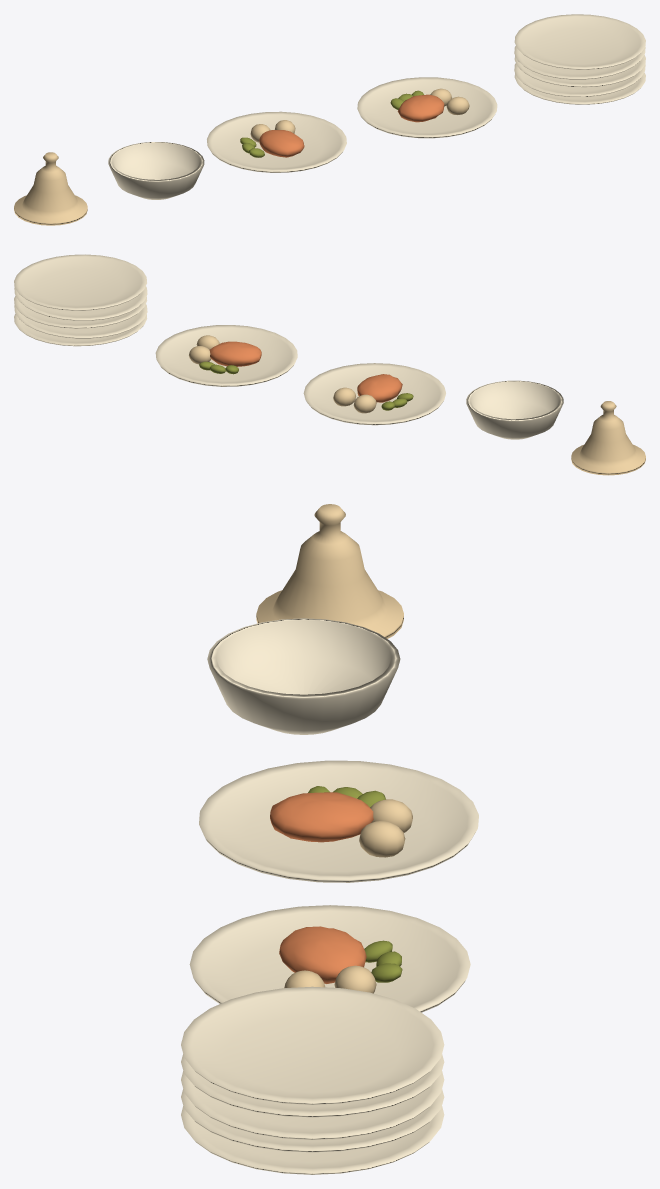
File: PROP_COUNTER_DRESSING.glb
3 renders of one model, top to bottom at view 1: azimuth 30°, elevation 25°; view 2: azimuth 150°, elevation 25°; view 3: azimuth 270°, elevation 25°, orthographic. The views are drawn at different scales.
Visible parts, largest first — view 1: plate_stack, b_plate, a_plate, bowl, bell, a_meat, b_meat, a_side1; view 2: plate_stack, b_plate, a_plate, bowl, bell, a_meat, b_meat, b_side0, b_side1; view 3: plate_stack, b_plate, bowl, a_plate, bell, b_meat, a_meat, b_side1, b_side0.
Part boxes in pixels (bbox=[...]): plate_stack: bbox=[514, 14, 645, 104]; b_plate: bbox=[207, 111, 346, 172]; a_plate: bbox=[357, 77, 497, 138]; bowl: bbox=[108, 142, 204, 199]; bell: bbox=[14, 152, 87, 225]; a_meat: bbox=[397, 94, 444, 122]; b_meat: bbox=[259, 130, 304, 157]; a_side1: bbox=[446, 96, 469, 114]; plate_stack: bbox=[14, 254, 147, 346]; b_plate: bbox=[303, 363, 445, 425]; a_plate: bbox=[155, 325, 297, 386]; bowl: bbox=[466, 380, 563, 439]; bell: bbox=[571, 401, 645, 475]; a_meat: bbox=[209, 341, 261, 366]; b_meat: bbox=[357, 374, 402, 402]; b_side0: bbox=[353, 394, 376, 413]; b_side1: bbox=[333, 387, 355, 406]; plate_stack: bbox=[181, 986, 444, 1174]; b_plate: bbox=[199, 760, 478, 882]; bowl: bbox=[207, 618, 400, 734]; a_plate: bbox=[189, 905, 470, 1012]; bell: bbox=[256, 504, 403, 638]; b_meat: bbox=[270, 792, 373, 842]; a_meat: bbox=[279, 926, 366, 983]; b_side1: bbox=[359, 821, 405, 857]; b_side0: bbox=[370, 799, 412, 832].
Bounding box in the file's own units: 8.07 × 0.7093 × 1.7.
